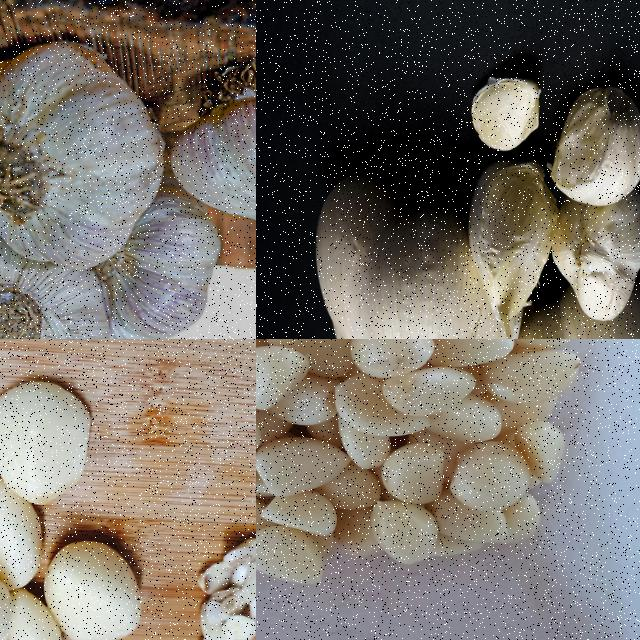garlic: (256, 339, 593, 588), (0, 347, 144, 639), (0, 43, 162, 270), (311, 172, 516, 338), (75, 186, 222, 338), (170, 62, 255, 259), (472, 164, 561, 327), (0, 232, 111, 338), (546, 84, 639, 210), (551, 196, 639, 316), (470, 72, 544, 154)
